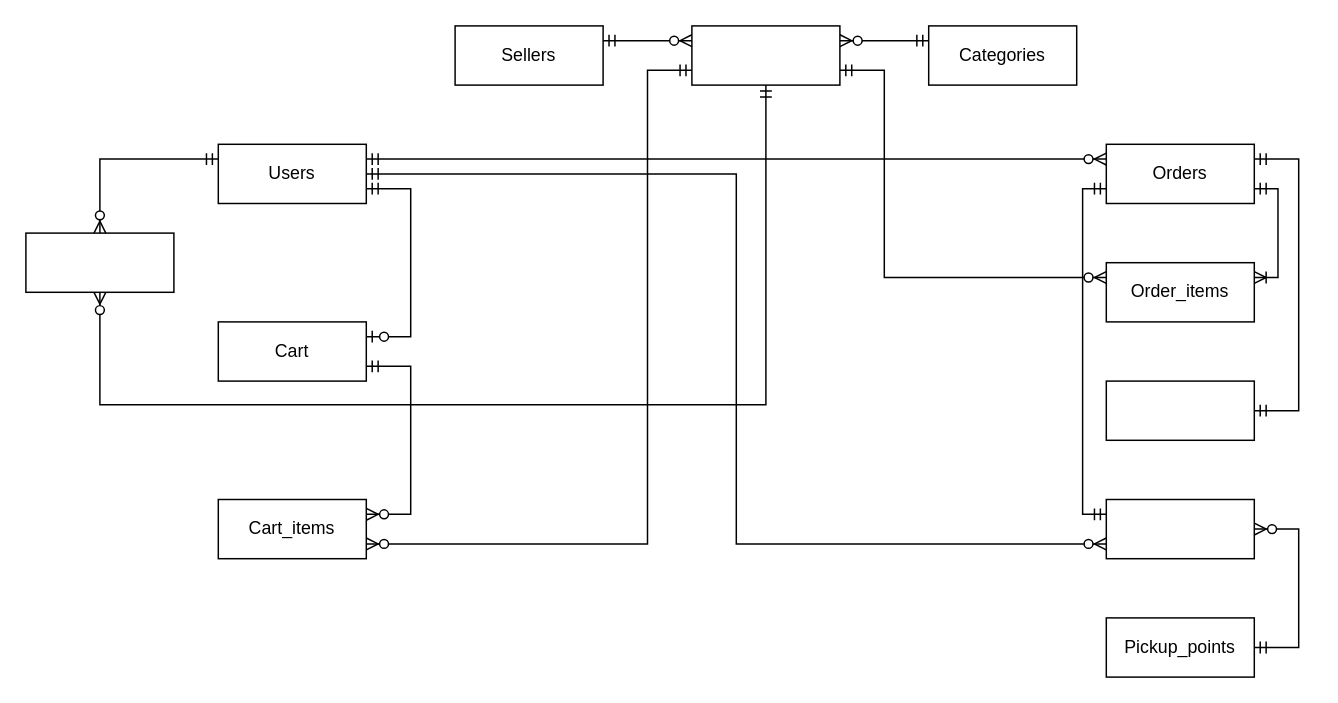
Some shapes in this 1338 by 703 pixel diagram are drawn without their labels. Here are the shapes that lost their labels. From the top down, the centre of each, then its label:
At point 765,54: "Products".
At point 99,262: "Reviews".
At point 1179,410: "Payments".
At point 1179,528: "Deliveries".
